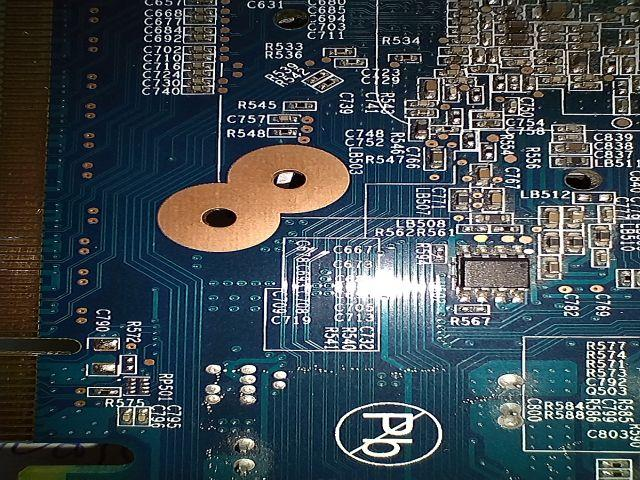capacitor: (86, 327, 125, 354), (486, 180, 510, 216)
